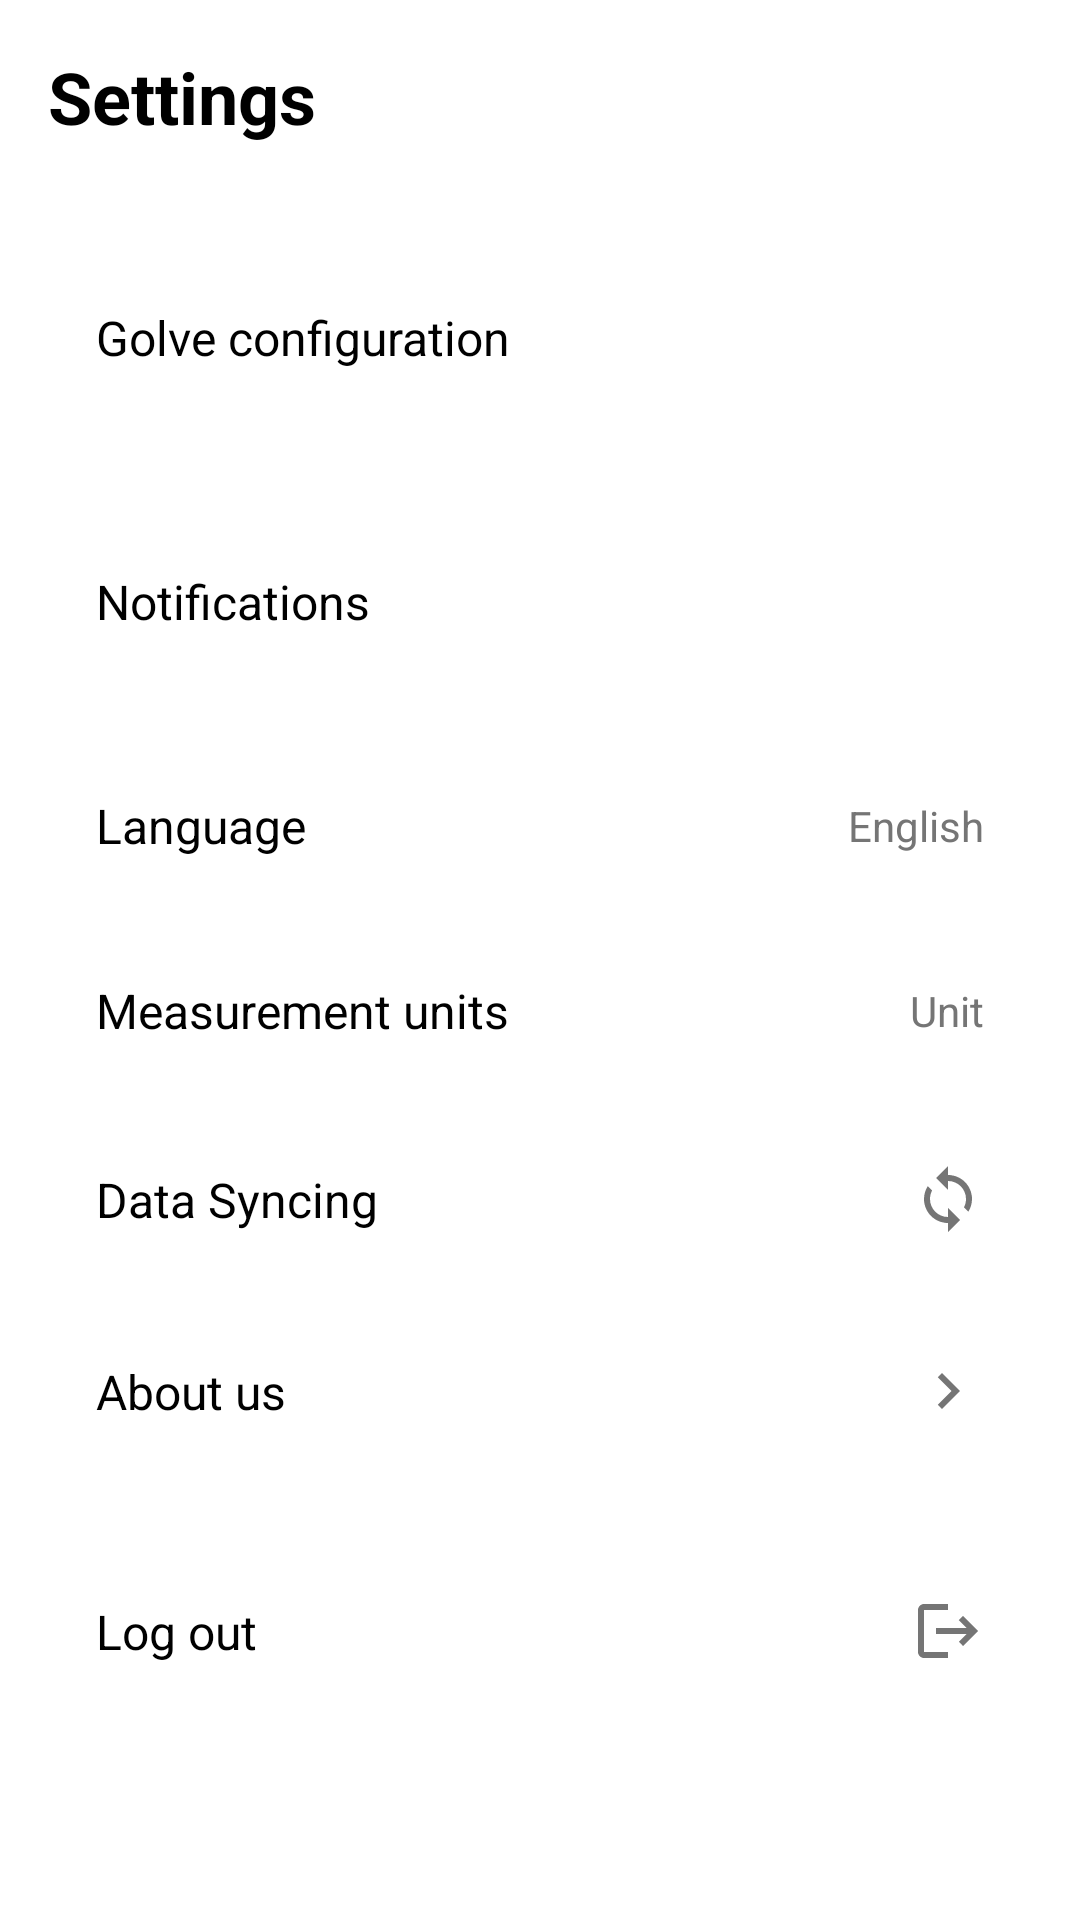

Point at icon controls on the screen. Image size 1080px x 1920px, points as [x,y].
chevron right: [949,1391]
sync: [948,1199]
